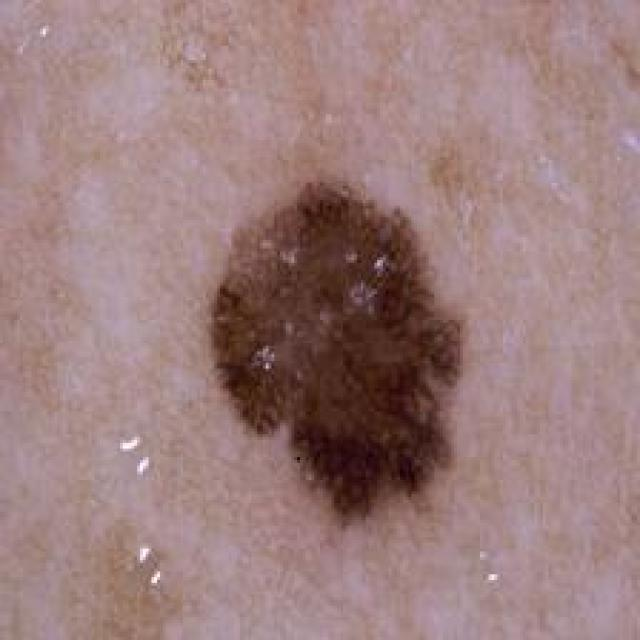Cancer: (206, 177, 463, 523)
